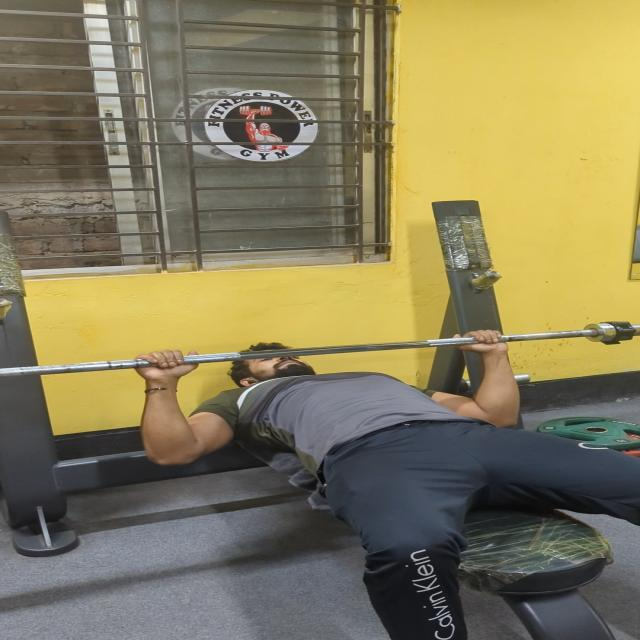Normal_BrenchPress: (59, 215, 639, 640)
